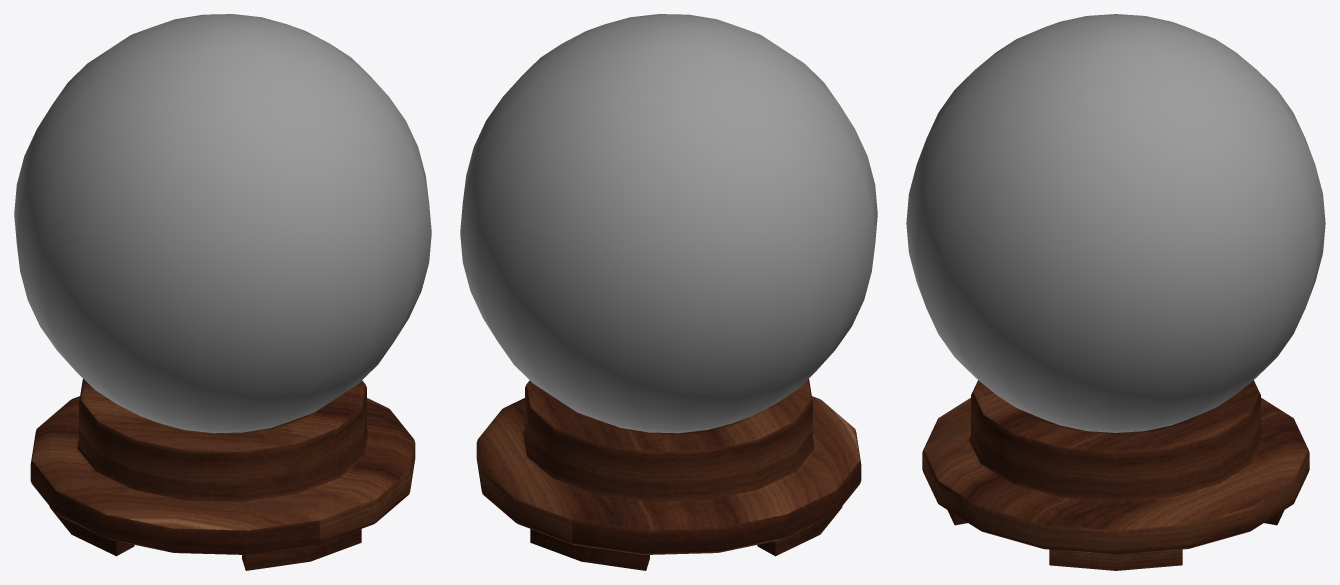
Rendered from CrystalSphere.fbx.
3 renders of one model, left to right at view 1: azimuth 30°, elevation 25°; view 2: azimuth 150°, elevation 25°; view 3: azimuth 270°, elevation 25°, orthographic.
Parts seen in each view (by area): view 1: CrystalSphere; view 2: CrystalSphere; view 3: CrystalSphere.
Boxes of the visible parts, <box> form: CrystalSphere: <box>14,14,431,570</box>; CrystalSphere: <box>460,14,877,570</box>; CrystalSphere: <box>906,14,1325,570</box>.
Size of the model in its own units: 103 by 126 by 103.
